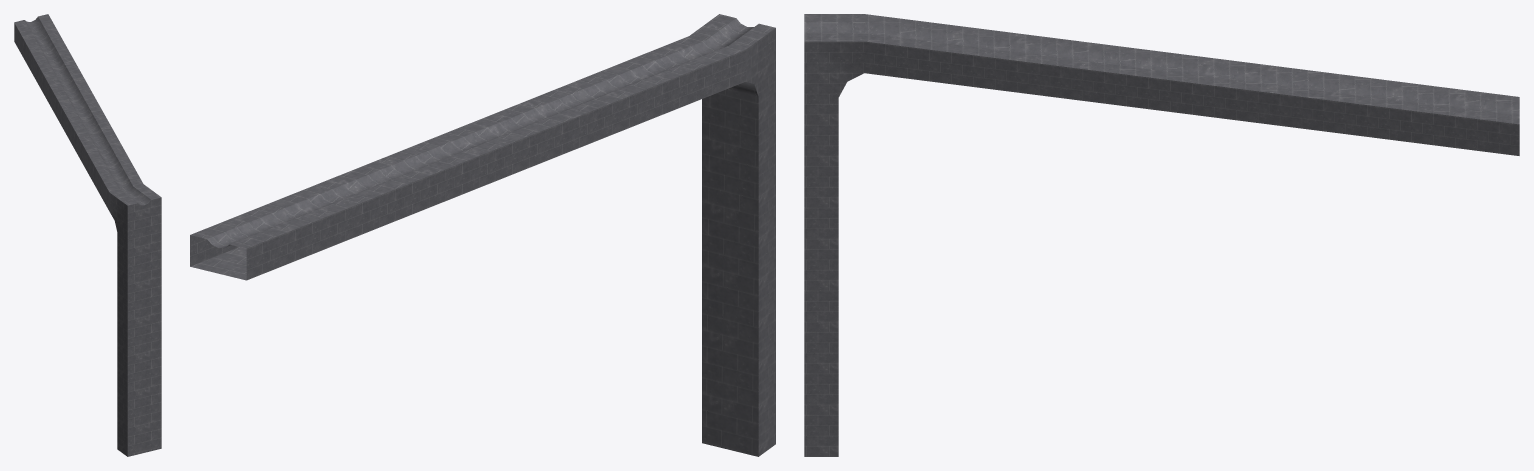
The model's file is Aquaduct_1_001.fbx.
3 renders of one model, left to right at view 1: azimuth 30°, elevation 25°; view 2: azimuth 150°, elevation 25°; view 3: azimuth 270°, elevation 25°, orthographic. The views are drawn at different scales.
Parts seen in each view (by area): view 1: Aquaduct_1_main; view 2: Aquaduct_1_main; view 3: Aquaduct_1_main.
Boxes of the visible parts, bbox=[...] form: Aquaduct_1_main: bbox=[14, 14, 161, 456]; Aquaduct_1_main: bbox=[190, 14, 775, 456]; Aquaduct_1_main: bbox=[804, 14, 1519, 456].
Size of the model in its own units: 759 by 1330 by 2076.
